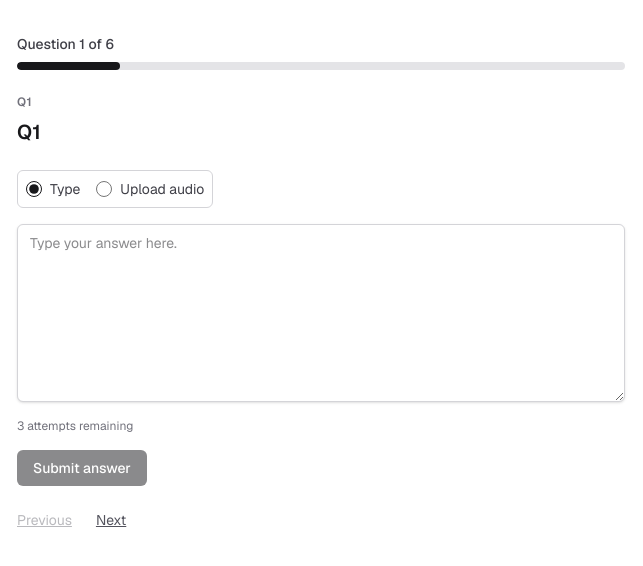
Test: shows the exhausted state when a submit returns 409
This screenshot has width=643, height=566.
Expected: the text "Question 1 of 6" is shown, 17,35 -> 114,53
Type "x" into the text box labelled "your answer".
click(321, 313); type("x")  # box 17,224 -> 625,402
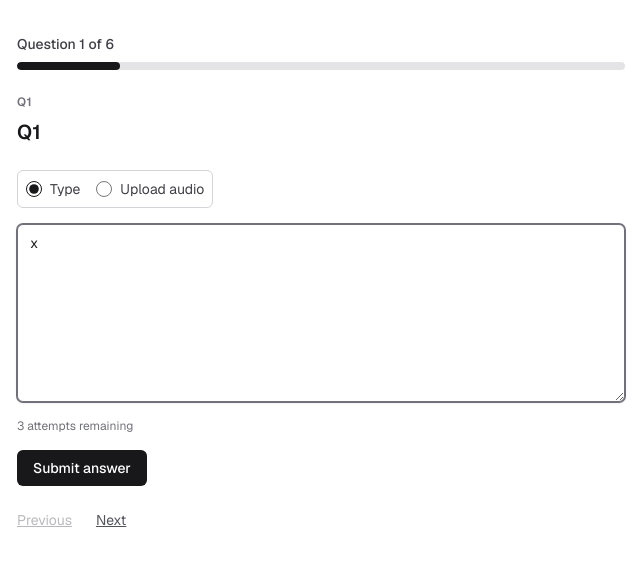
Click the button "Submit answer".
click(82, 468)  # box 17,450 -> 147,486
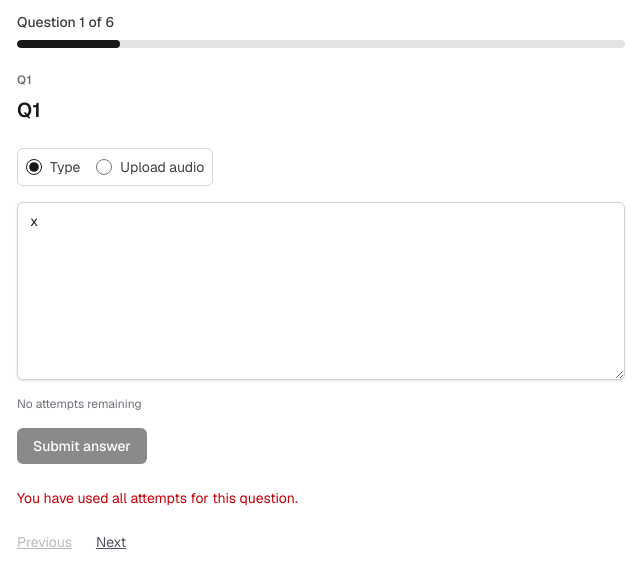
Result: the text "No attempts remaining" is shown at 17,396 -> 142,412
Result: the text "You have used all attempts for this question." is shown at 17,489 -> 298,507
Result: the button "Submit answer" is disabled at 17,428 -> 147,464
